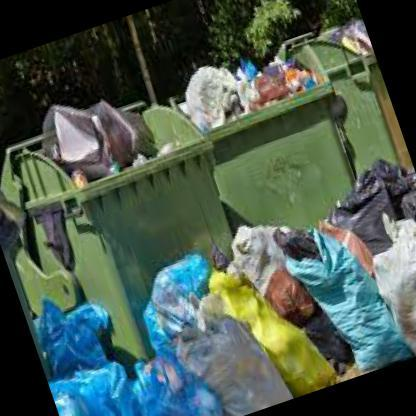Garbage: (128, 211, 394, 415), (275, 155, 415, 382), (28, 297, 150, 415), (97, 339, 209, 415)
